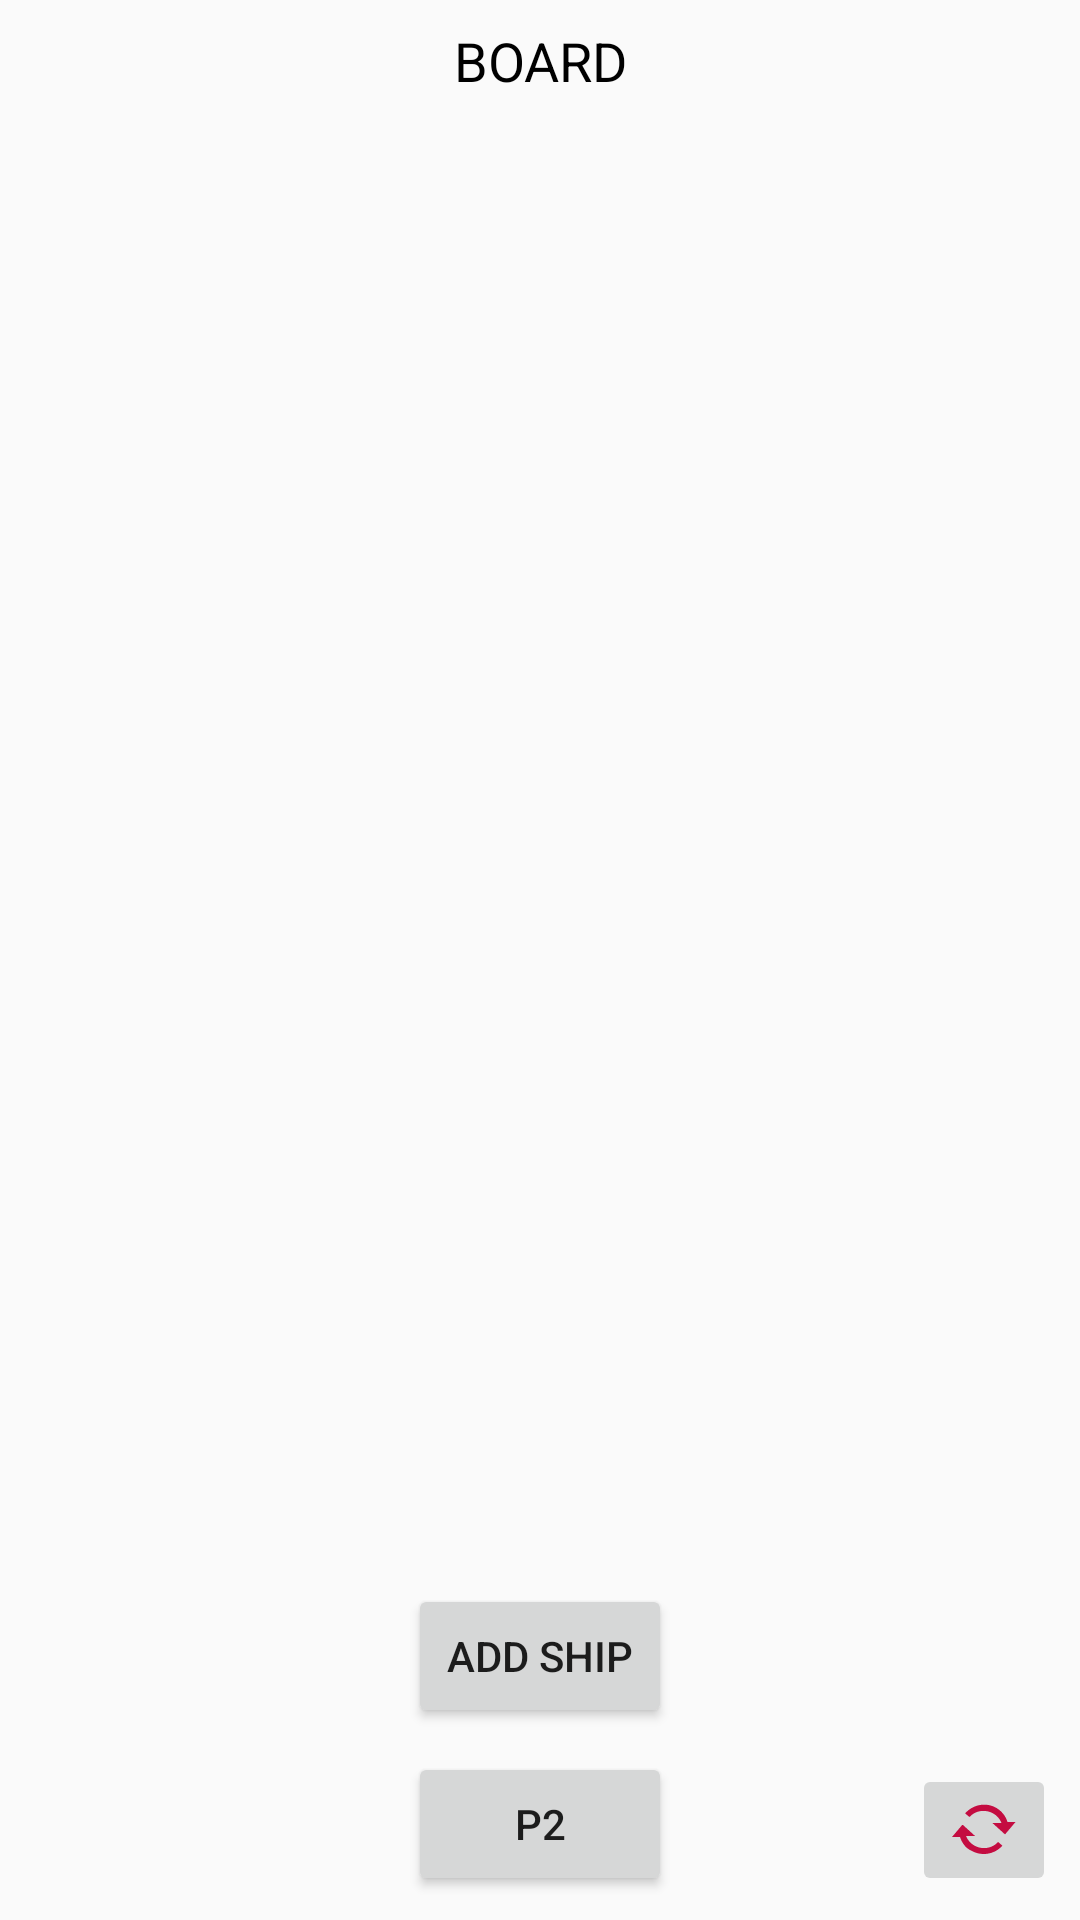

Icons on this 1080px×1920px Android screen, each with the point to tap as [x,y]:
sync noanim: [984,1830]
